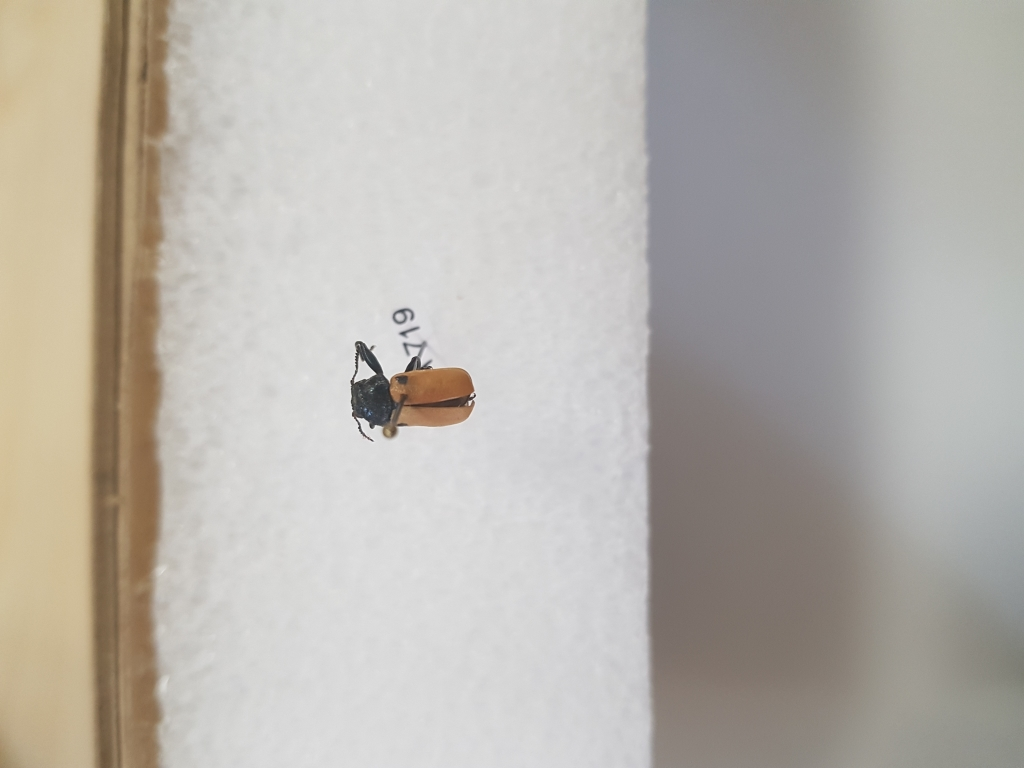Labidostomis_propinqua: (344, 337, 491, 435)
